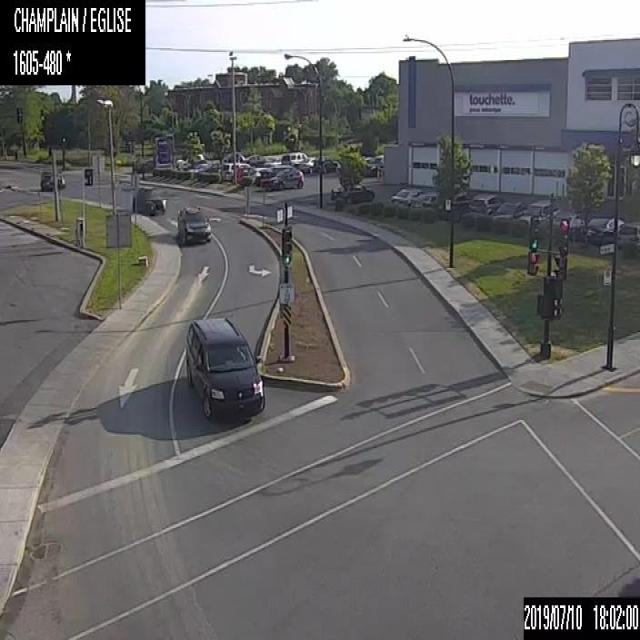vehicle: (184, 316, 266, 417), (177, 202, 211, 242), (546, 208, 585, 236), (518, 199, 559, 225), (583, 216, 623, 241), (132, 186, 166, 213), (437, 192, 472, 217), (330, 182, 373, 202), (268, 166, 303, 188), (467, 194, 504, 214), (255, 164, 289, 185), (391, 186, 424, 206), (492, 200, 526, 219), (411, 191, 441, 211), (40, 168, 65, 191), (617, 221, 639, 245), (221, 162, 249, 180), (292, 156, 318, 173), (177, 153, 204, 168), (367, 152, 383, 175), (232, 165, 253, 182), (244, 153, 271, 166), (248, 166, 268, 183), (281, 151, 306, 164), (315, 159, 336, 173), (222, 150, 243, 161), (136, 158, 152, 172), (193, 162, 208, 176), (204, 161, 222, 172), (264, 155, 281, 165), (332, 160, 341, 169), (364, 156, 373, 163)
